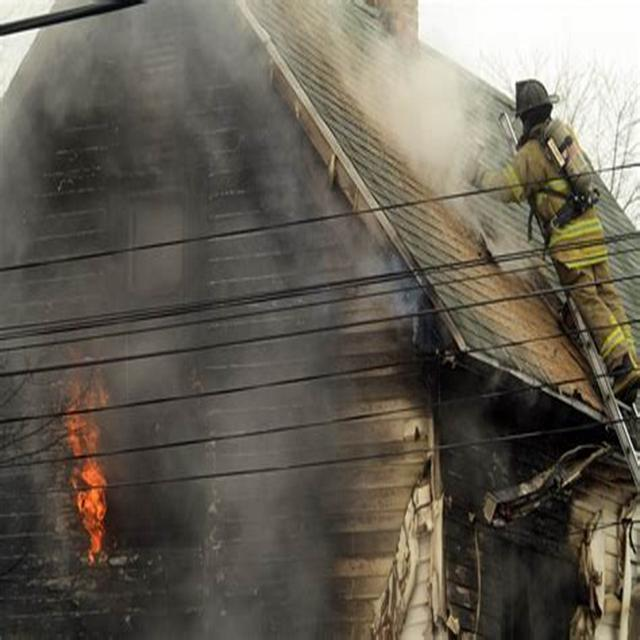Fire: (72, 410, 108, 564)
Smoke: (27, 30, 266, 246), (370, 39, 473, 162)
